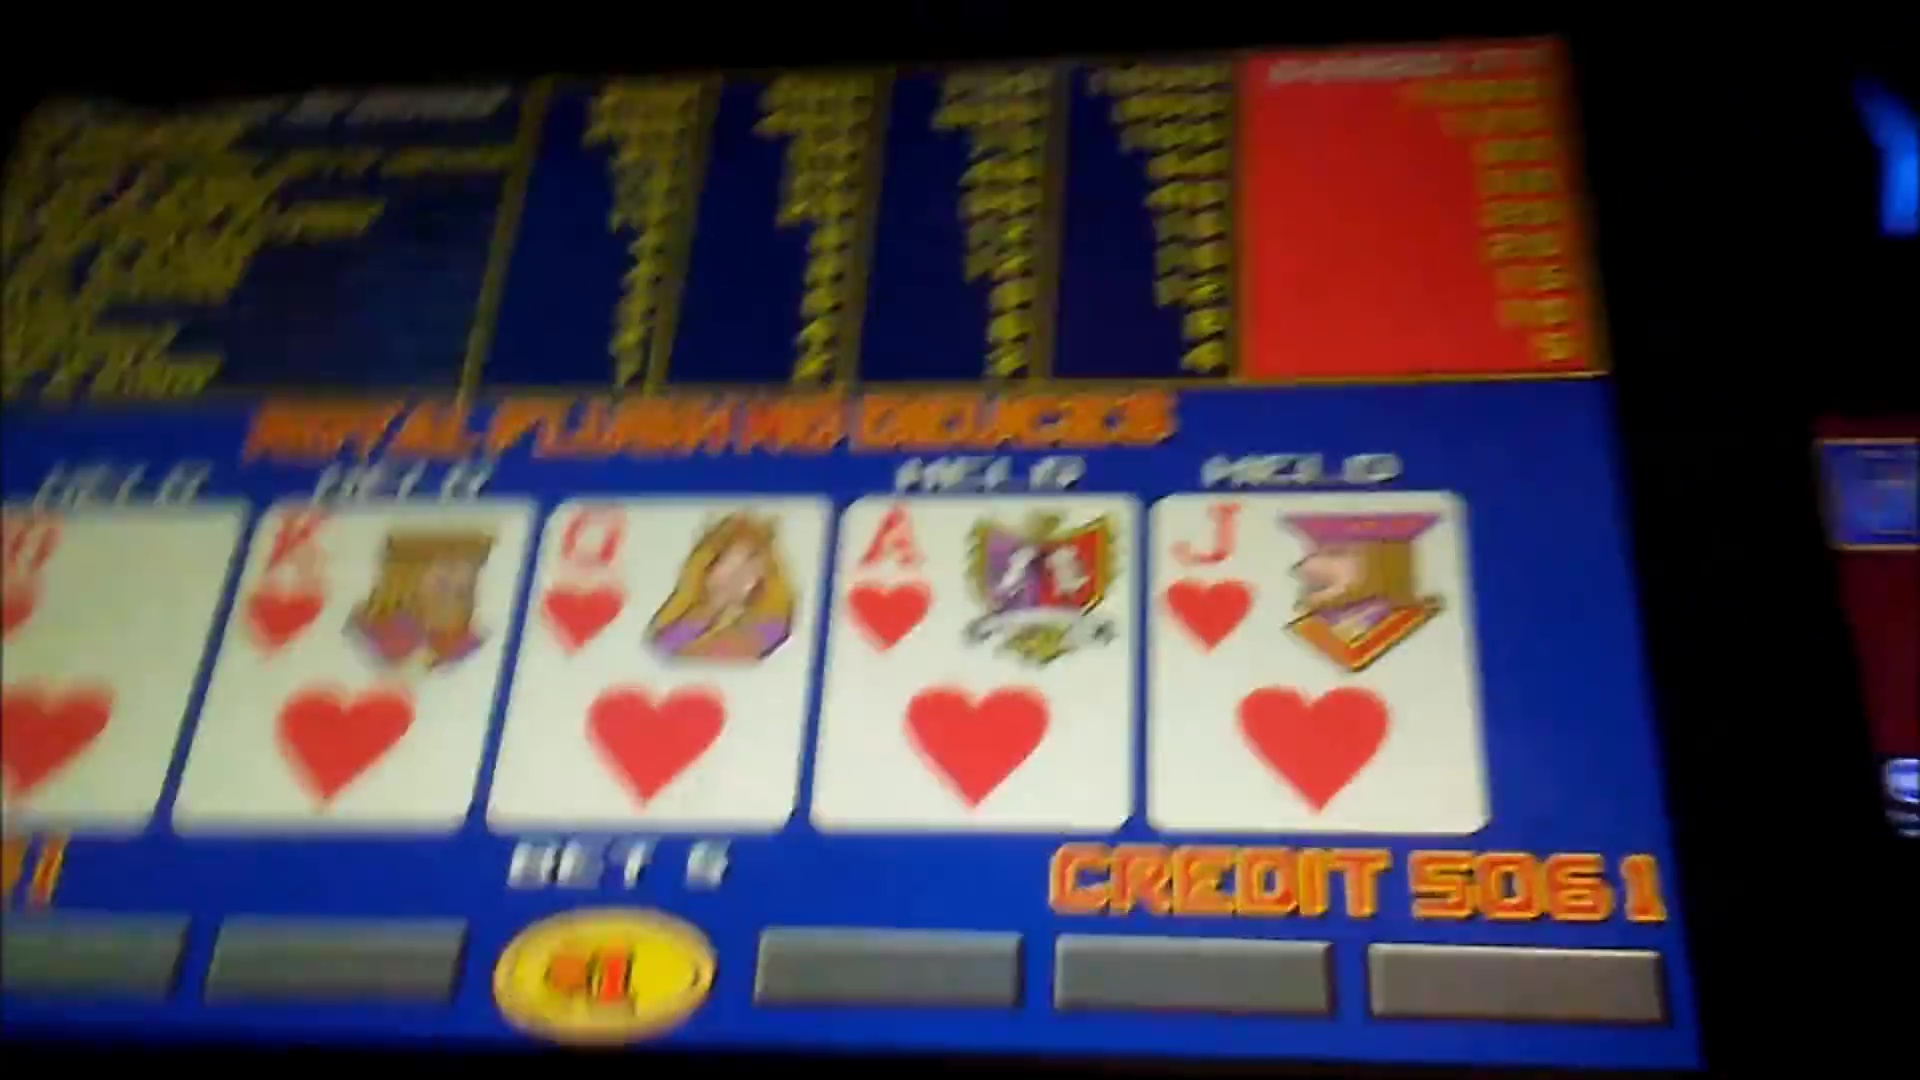AH: (843, 495, 1127, 661)
JH: (1151, 495, 1466, 669)
KH: (251, 498, 502, 674)
QH: (549, 498, 811, 676)
